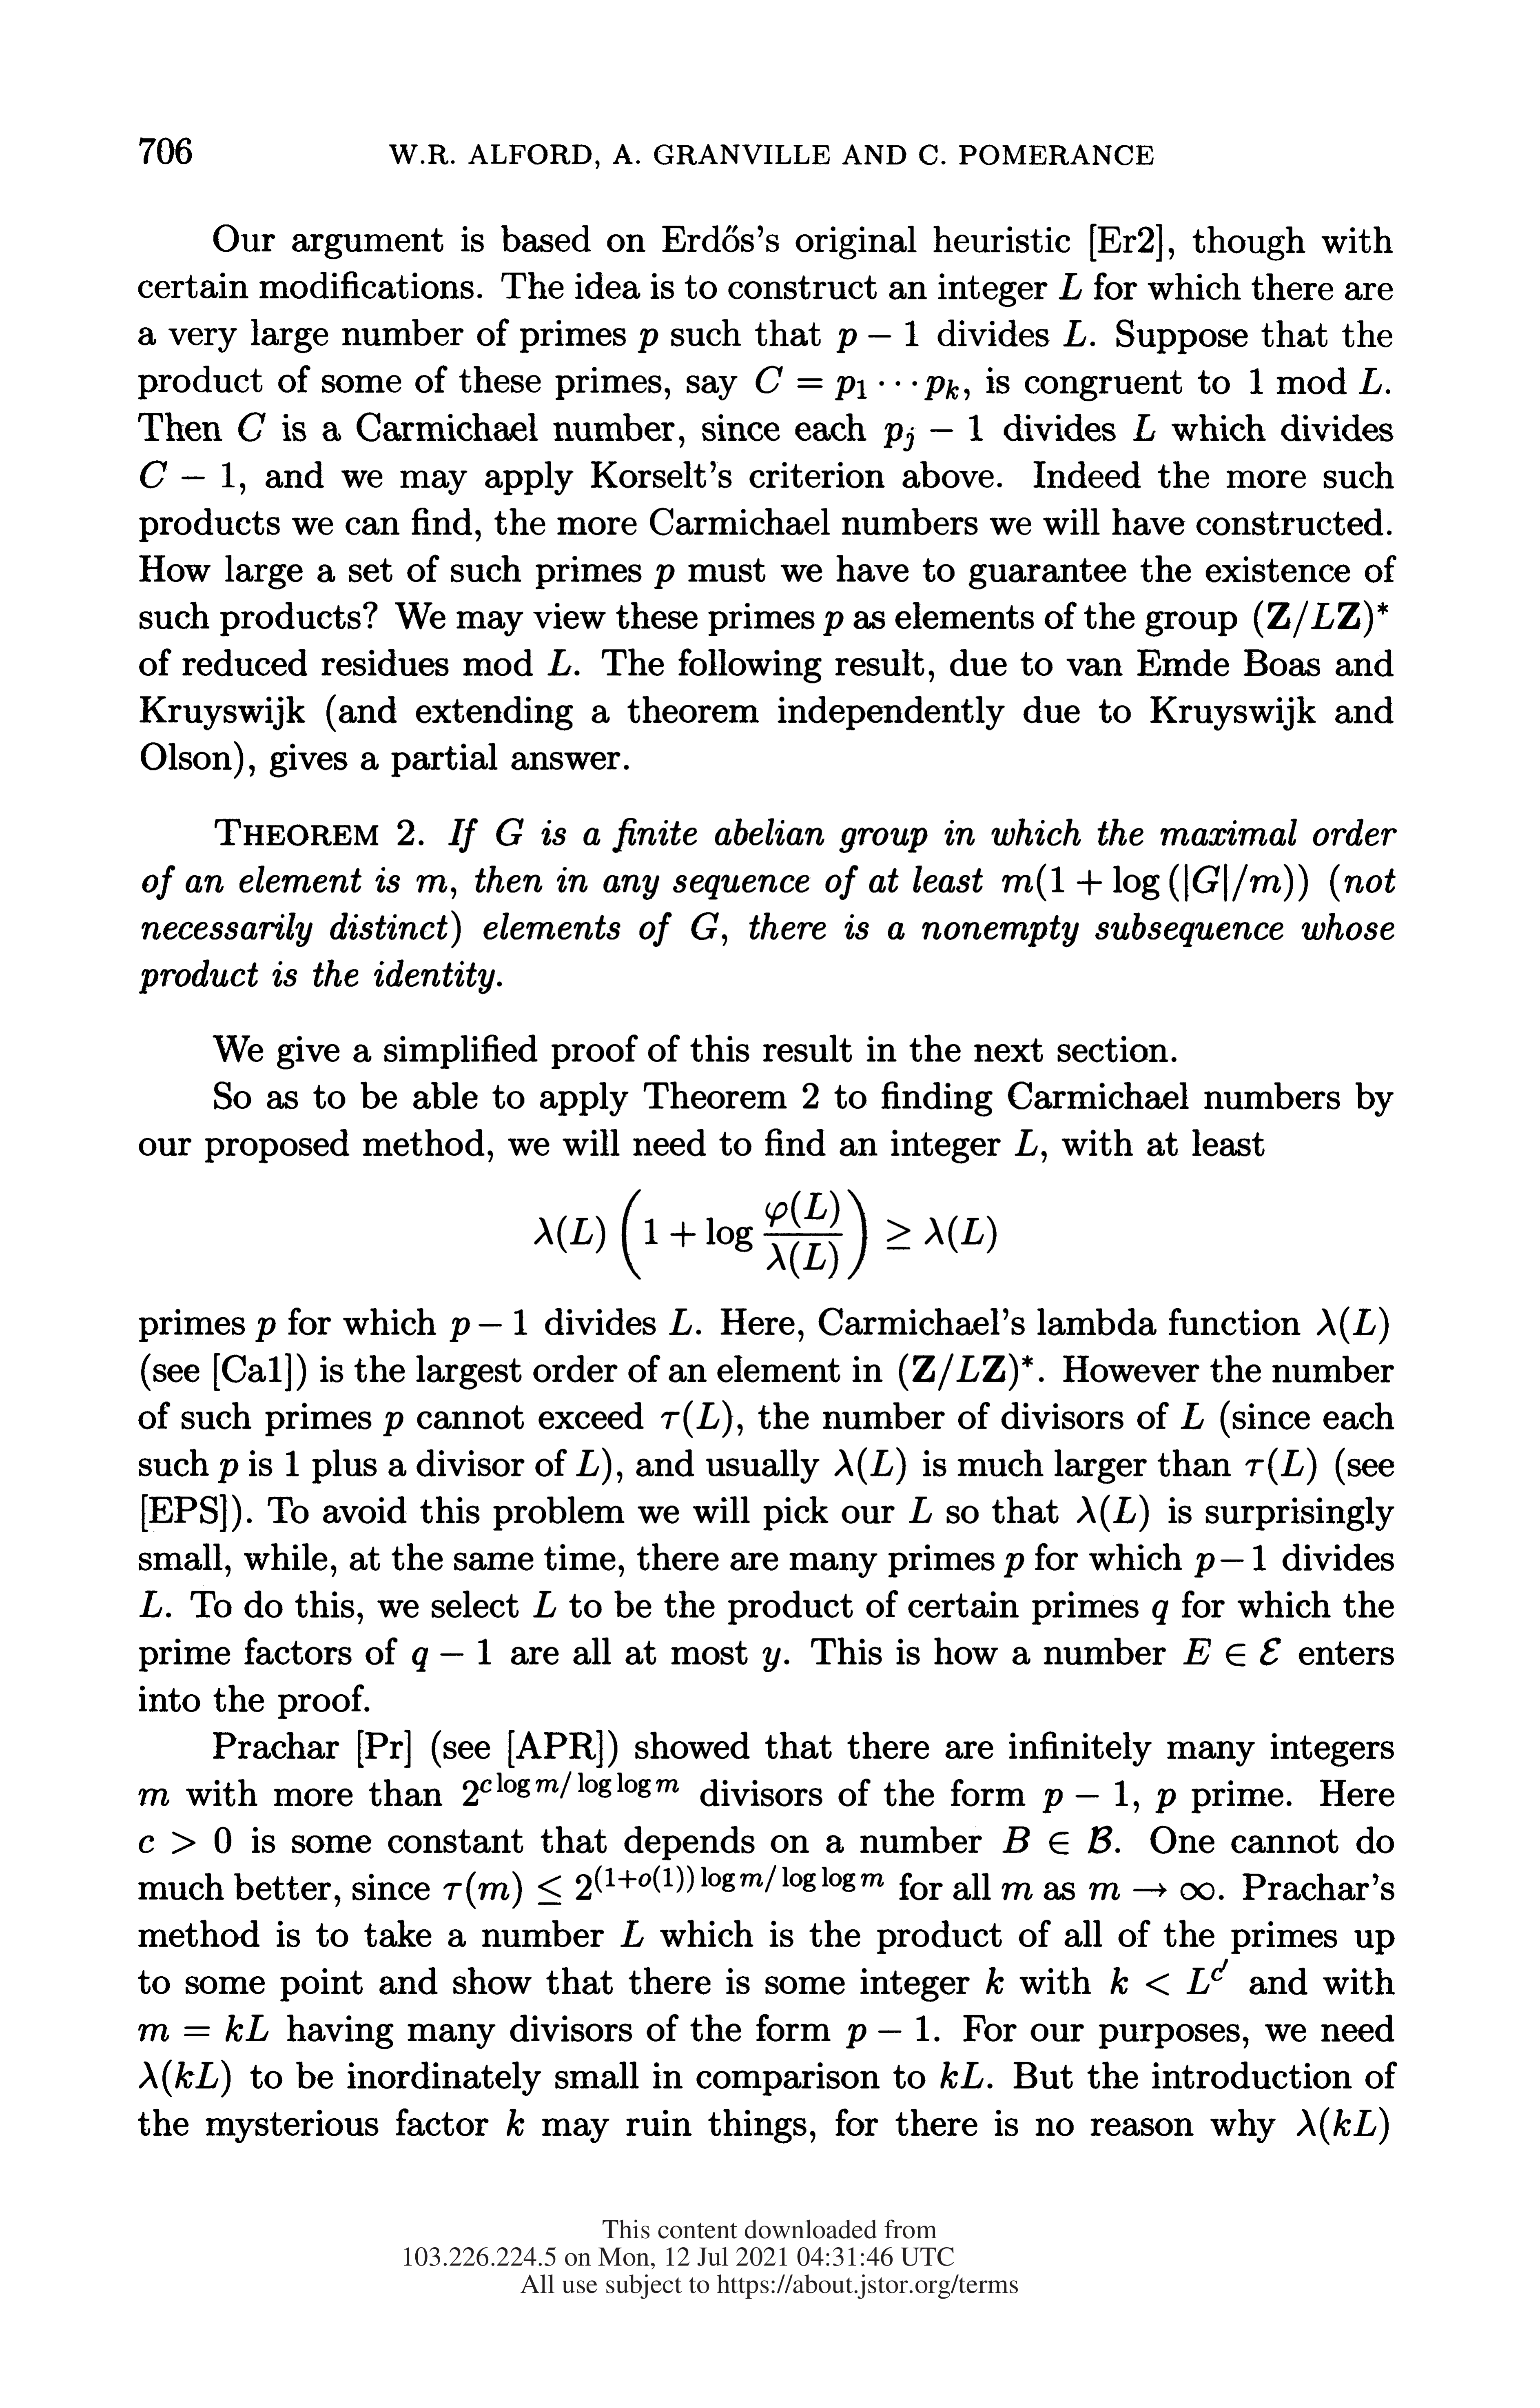maths: (533, 1190, 996, 1279), (444, 1866, 884, 1908), (1002, 864, 1307, 900), (463, 1771, 679, 1806), (756, 365, 959, 400), (1254, 600, 1387, 637), (900, 1353, 1033, 1390), (1110, 1959, 1228, 1996), (884, 414, 982, 451), (139, 2059, 230, 2097), (1251, 367, 1382, 393), (1296, 2108, 1389, 2145), (139, 2015, 268, 2041), (1042, 1780, 1138, 1813), (1003, 1825, 1112, 1853), (463, 649, 572, 676), (845, 2015, 930, 2048), (1317, 1306, 1389, 1344), (1184, 1638, 1280, 1666), (140, 460, 235, 488), (661, 1401, 733, 1437), (1245, 1448, 1317, 1485), (1077, 1495, 1149, 1532), (837, 321, 919, 353), (835, 1448, 905, 1485), (412, 1639, 491, 1671), (139, 1827, 232, 1853), (449, 1309, 526, 1341), (1194, 1544, 1266, 1578), (1089, 1883, 1214, 1901), (940, 2062, 984, 2089), (239, 412, 265, 441), (496, 818, 523, 846), (691, 913, 719, 939), (1063, 319, 1086, 346), (1133, 414, 1156, 441), (668, 1309, 691, 1336), (1180, 1402, 1203, 1429), (575, 1450, 598, 1476), (909, 1497, 931, 1523), (139, 1590, 161, 1616), (621, 1920, 644, 1946), (1059, 274, 1082, 298), (533, 1592, 556, 1616), (416, 874, 447, 892), (1016, 1129, 1037, 1155), (1002, 1883, 1033, 1901), (139, 1788, 168, 1806), (823, 611, 844, 635), (382, 1411, 403, 1436), (217, 1458, 239, 1483), (1003, 1553, 1024, 1578), (1156, 1788, 1177, 1813), (638, 328, 658, 353), (986, 1967, 1003, 1994), (507, 2110, 524, 2136), (654, 565, 674, 588), (256, 1318, 275, 1341), (763, 1648, 781, 1673), (1152, 1601, 1168, 1625), (232, 1495, 240, 1532)
